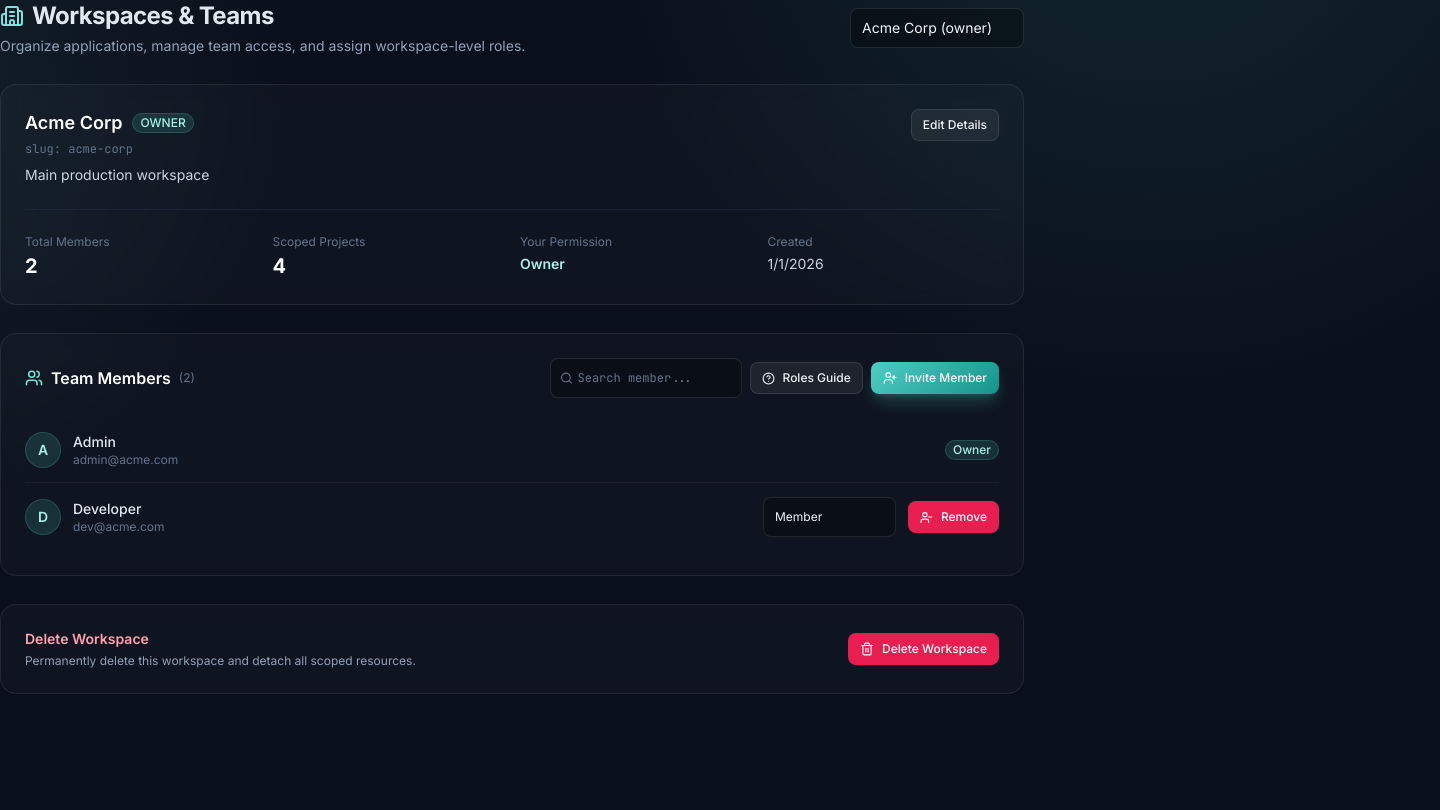
Test: Workspaces route › shows the accept URL after a successful invite for an unknown address
Expected: the text "Invite Member" is shown, [905,370,987,386]
Click the button "Invite Member". click: (935, 378)
box: [871,362,999,394]
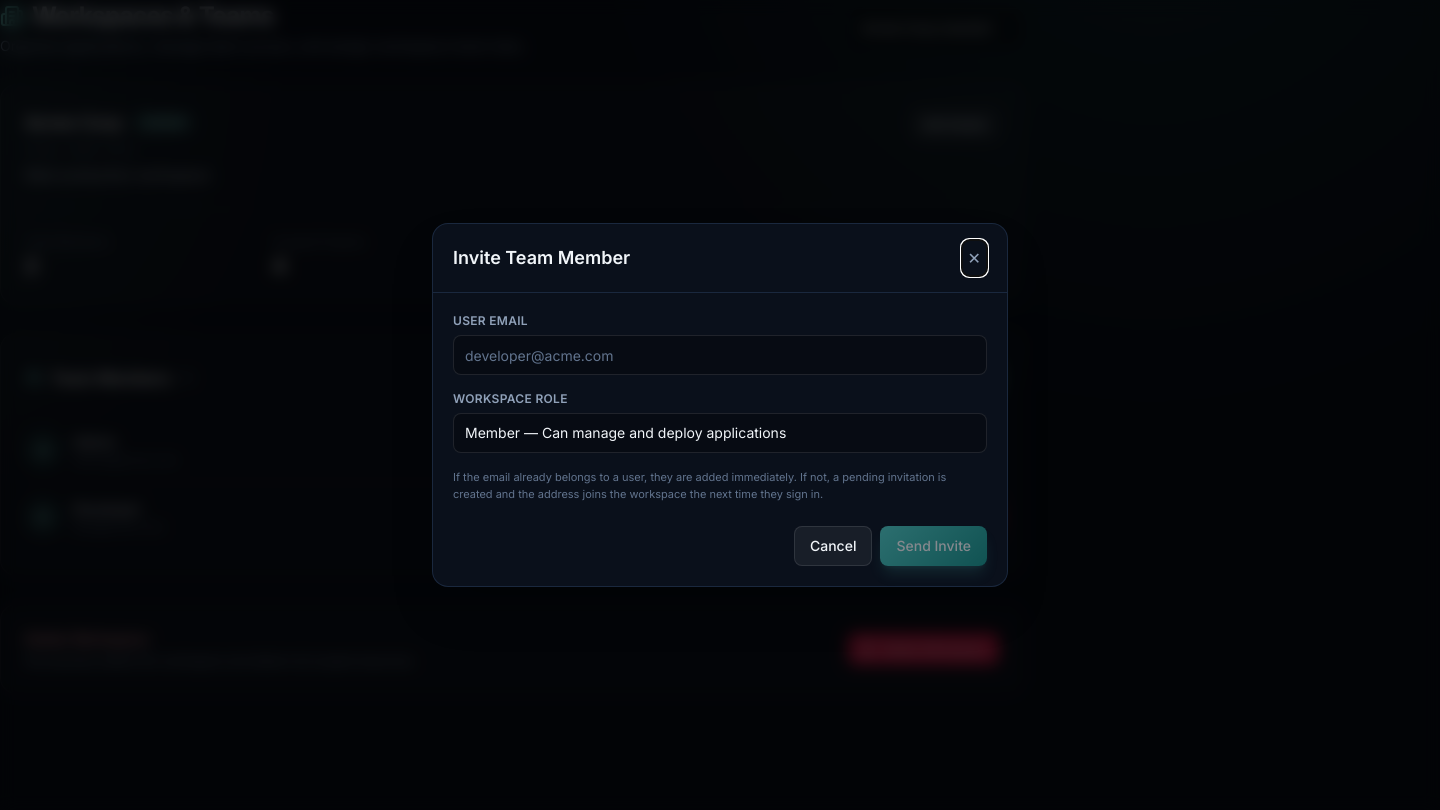
Type "newbie@acme.com" into the field with placeholder "developer@acme.com". click: (720, 355)
box: [453,335,987,375]
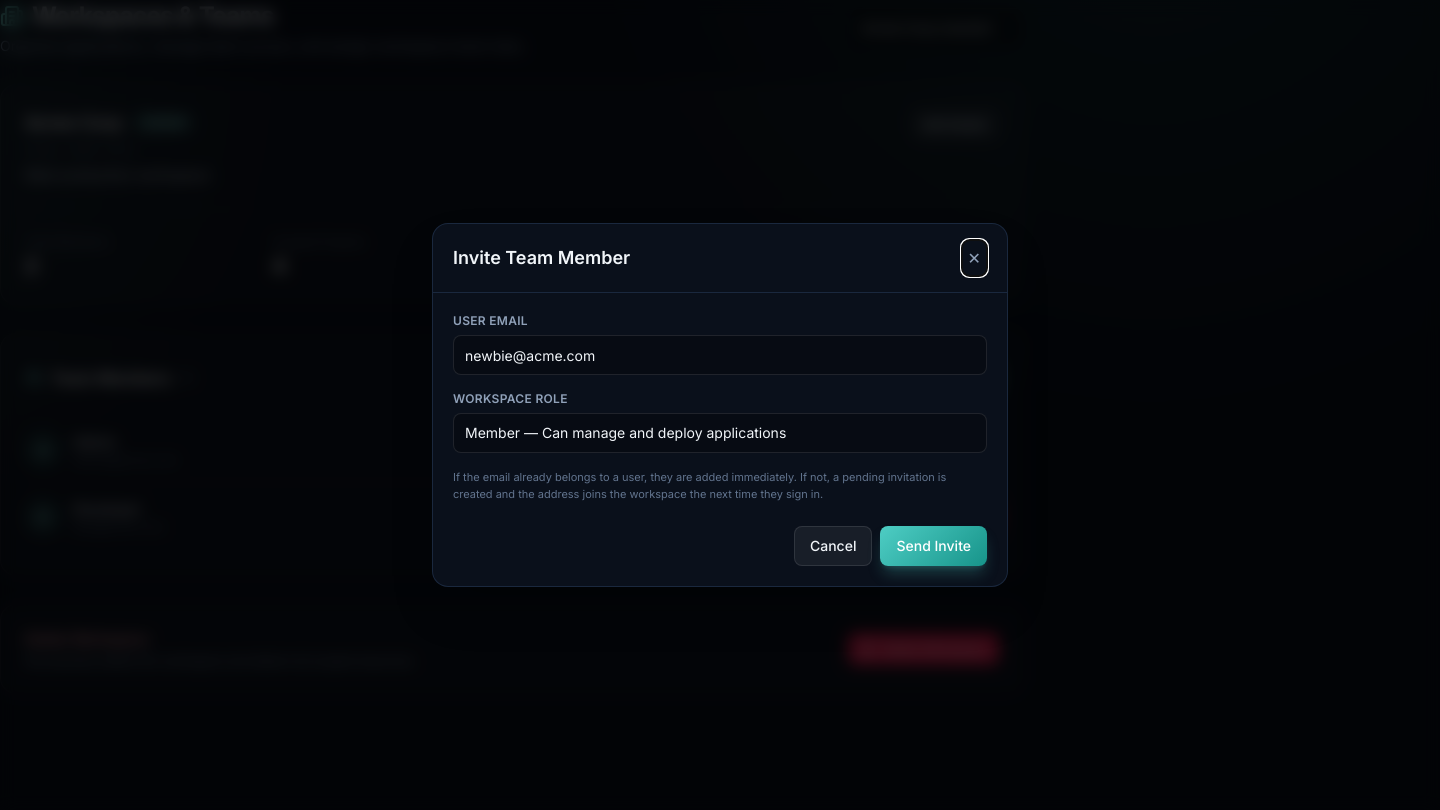
Click the button "Send Invite". click: (934, 546)
box: [880,526,987,566]
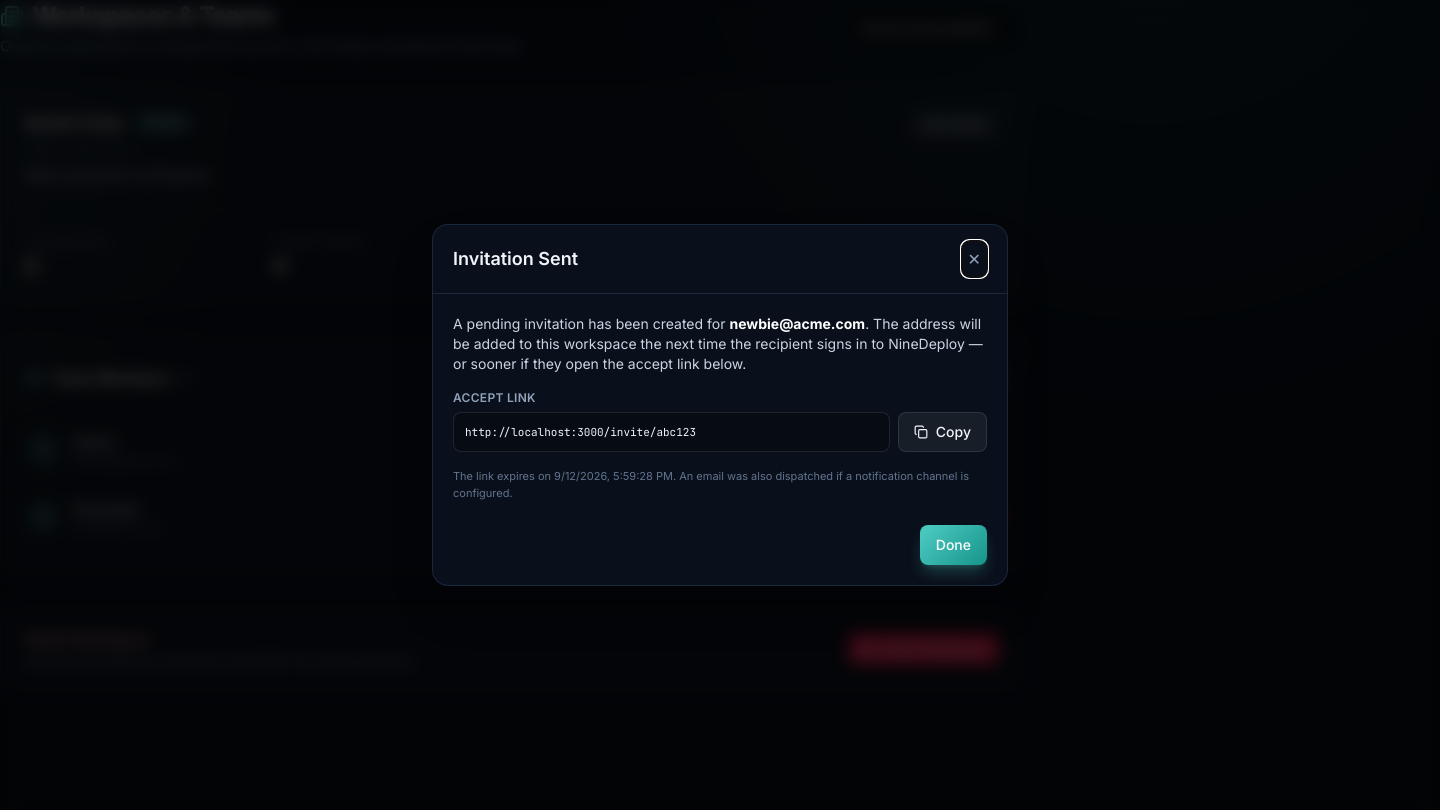
Result: the heading "Invitation Sent" is shown at [453,245,578,273]
Click the Copy button — the label should toggle to "Copied".
Click the button "Copy". click: (942, 432)
box: [898,412,987,452]
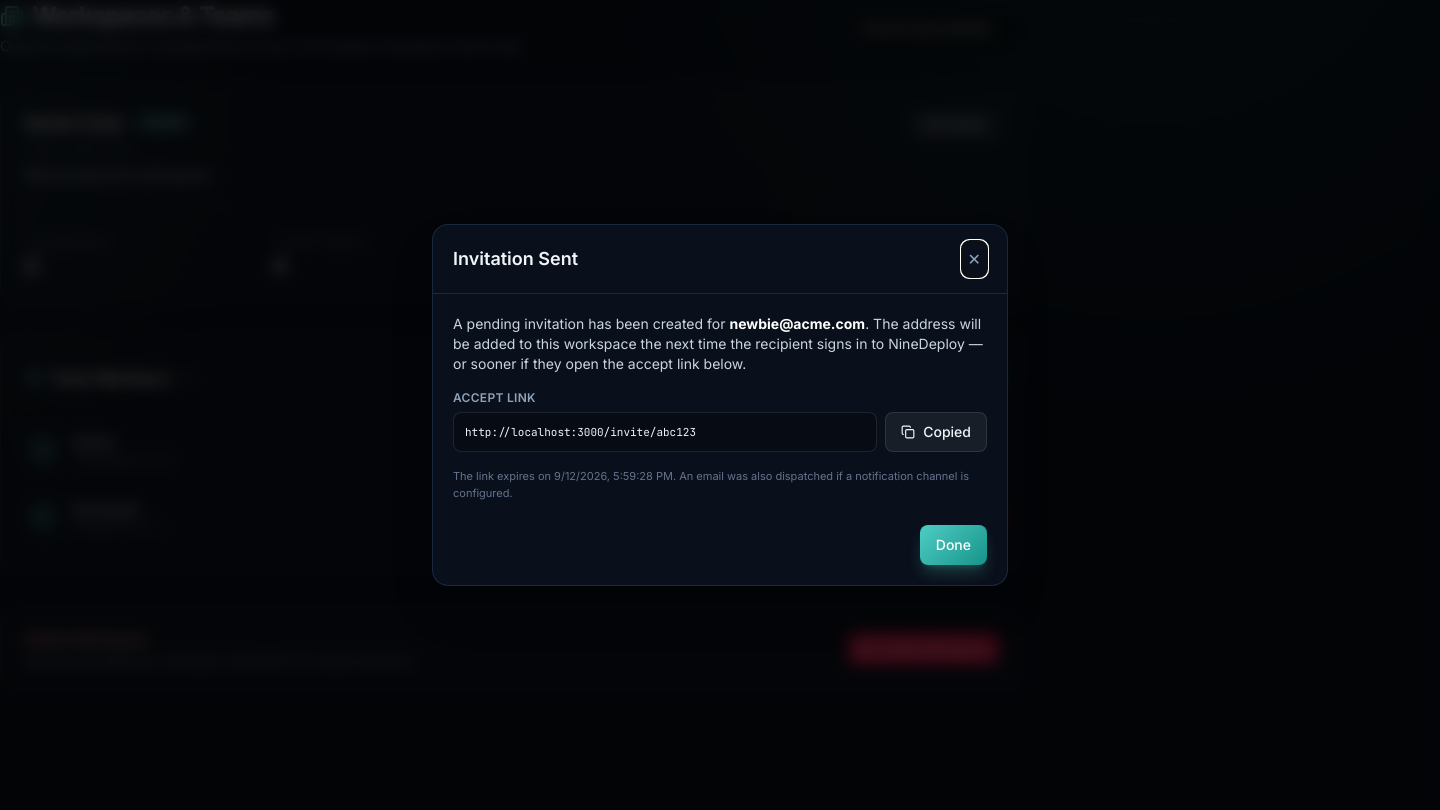
Result: the button "Copied" is shown at [885,412,987,452]
